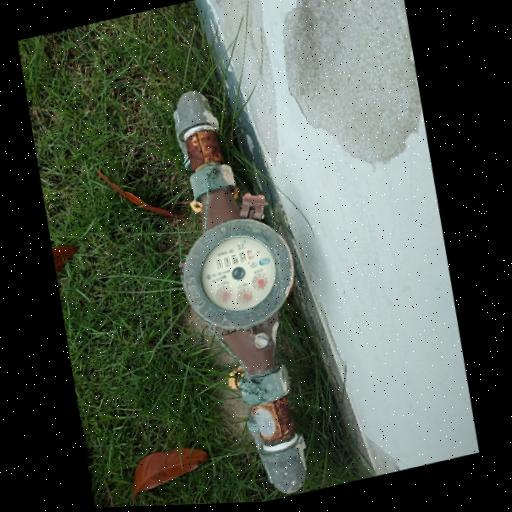0: (239, 251, 247, 262)
1: (215, 259, 224, 269), (223, 256, 232, 266)
5: (246, 249, 254, 260)
8: (231, 254, 239, 265)
border_water_meter_number: (215, 248, 255, 269)
